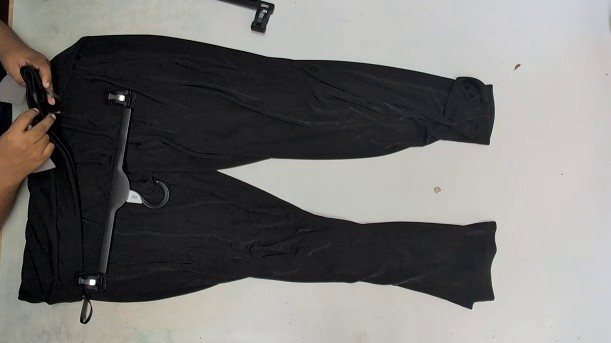TROUSER: (81, 10, 485, 342)
